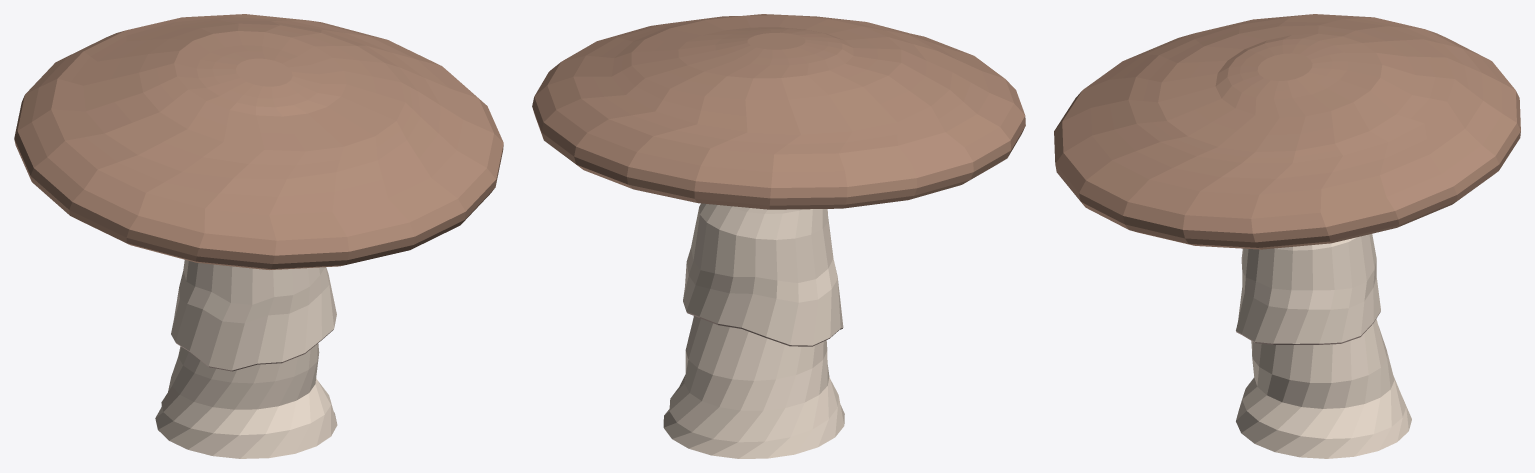
The model's file is Mushroom_Medium_02.fbx.
3 renders of one model, left to right at view 1: azimuth 30°, elevation 25°; view 2: azimuth 150°, elevation 25°; view 3: azimuth 270°, elevation 25°, orthographic. The views are drawn at different scales.
Parts seen in each view (by area): view 1: medium_sized_mshrm_02; view 2: medium_sized_mshrm_02; view 3: medium_sized_mshrm_02.
Boxes of the visible parts, x1=… form: medium_sized_mshrm_02: x1=14, y1=14, x2=503, y2=458; medium_sized_mshrm_02: x1=532, y1=14, x2=1025, y2=458; medium_sized_mshrm_02: x1=1054, y1=14, x2=1520, y2=458.
Size of the model in its own units: 11.85 by 9.92 by 11.75.
Materials: 1 (1 with a texture image).
